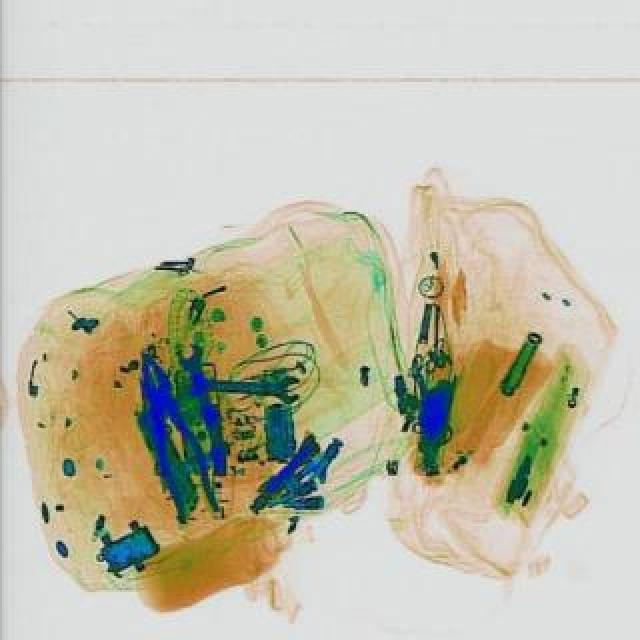scissors: (168, 340, 236, 462), (188, 368, 296, 404)
wrench: (118, 346, 224, 524)
